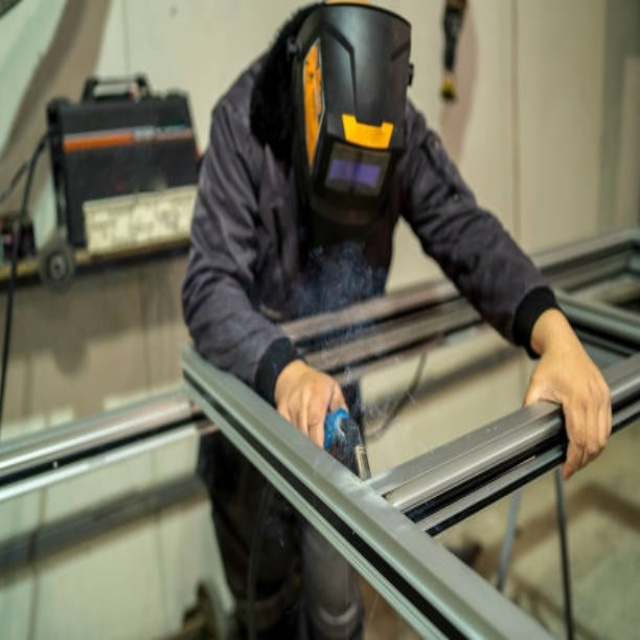Sin_guantes: (521, 325, 611, 483), (273, 358, 349, 451)
